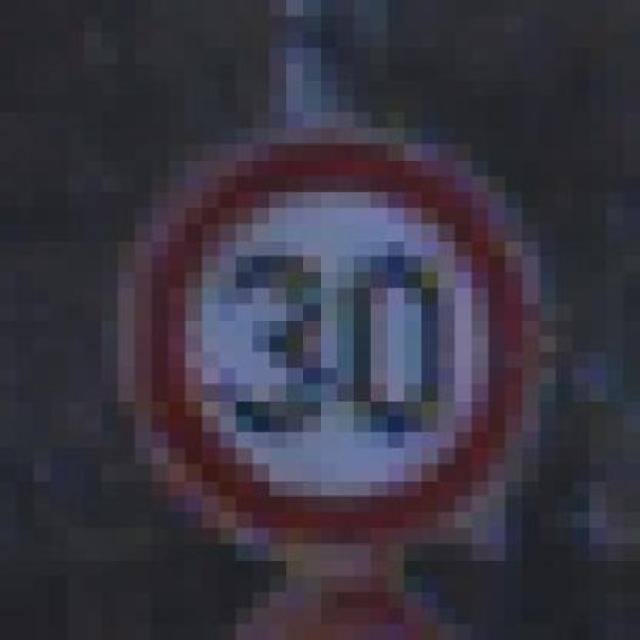forb_speed_over_30: (140, 141, 520, 542)
